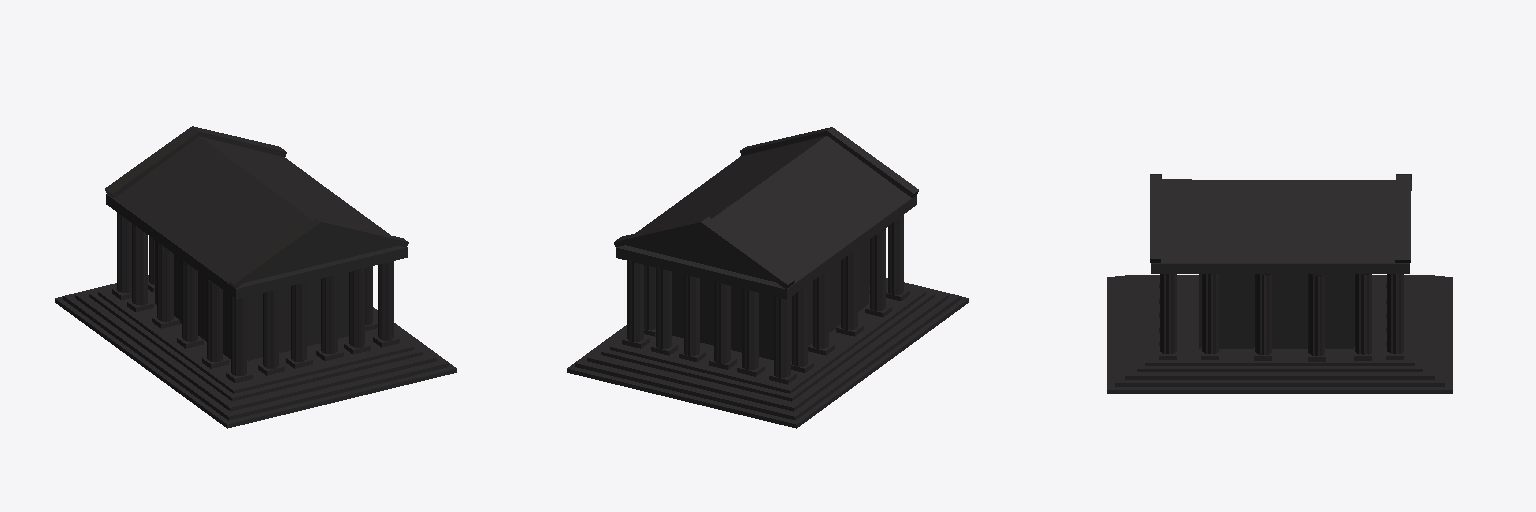
Rendered from GreekBuilding.obj.
3 views of the same model, side by side, from view 1: azimuth 30°, elevation 25°; view 2: azimuth 150°, elevation 25°; view 3: azimuth 270°, elevation 25° (orthographic).
Visible parts, largest first — view 1: GreekBuilding; view 2: GreekBuilding; view 3: GreekBuilding.
Part boxes in pixels (x1,y1,x2,y2): GreekBuilding: (55, 126, 456, 428); GreekBuilding: (567, 127, 968, 428); GreekBuilding: (1107, 174, 1452, 393).
Size of the model in its own units: 8.98 by 6.08 by 11.67.